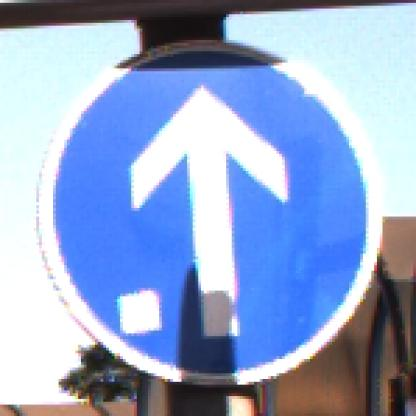AheadOnly: (38, 38, 384, 383)
